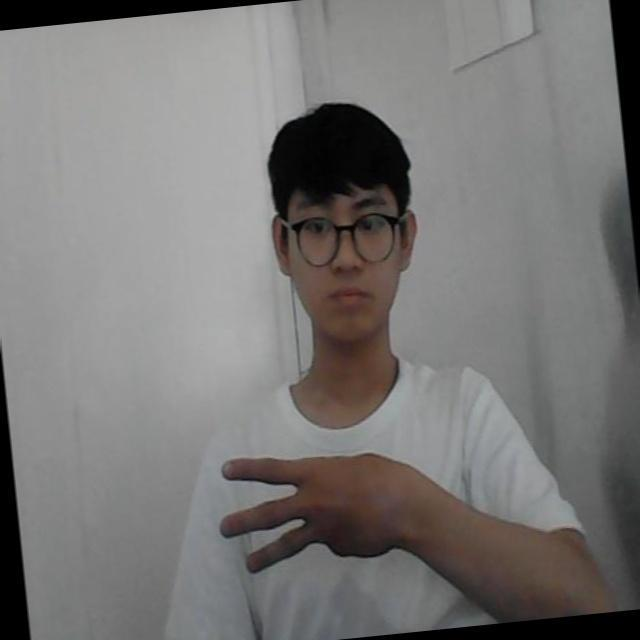E: (201, 432, 436, 580)
